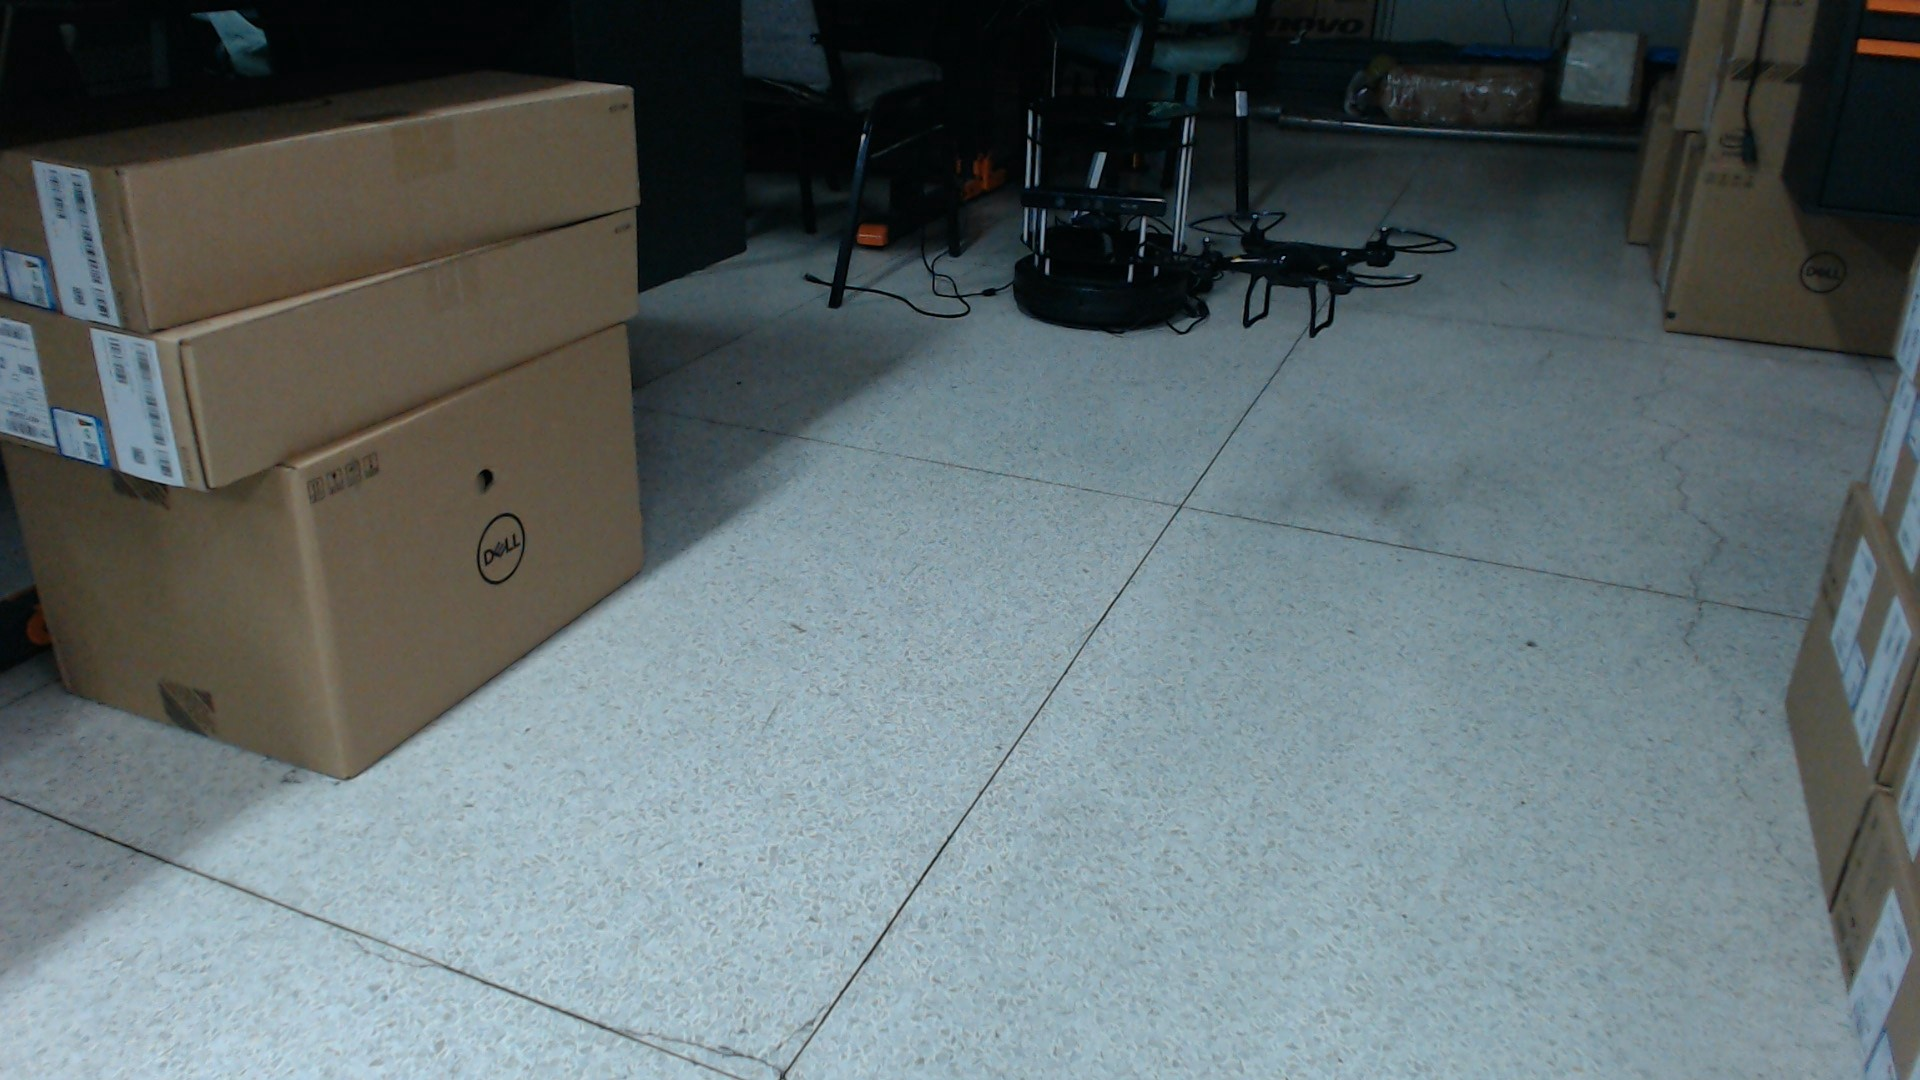test_drone: (1160, 206, 1462, 342)
